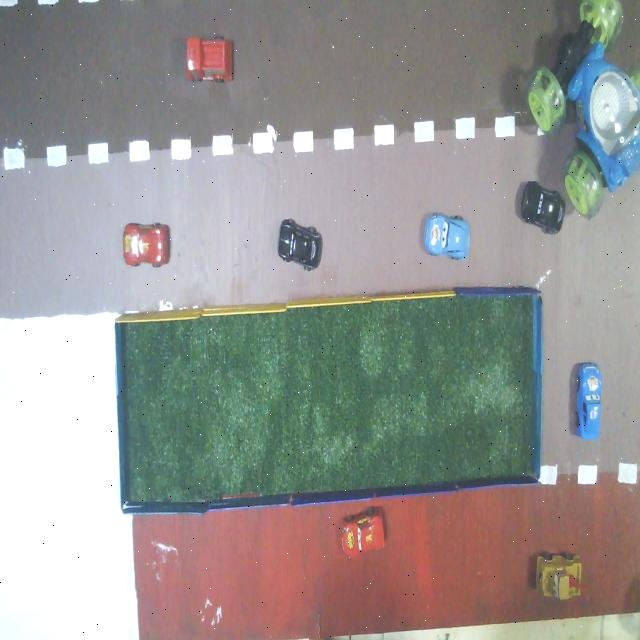small cars: (521, 181, 565, 234), (342, 506, 385, 558), (278, 220, 322, 270), (424, 213, 470, 259), (536, 553, 581, 600), (187, 37, 233, 82), (123, 223, 169, 267), (576, 363, 601, 439)
